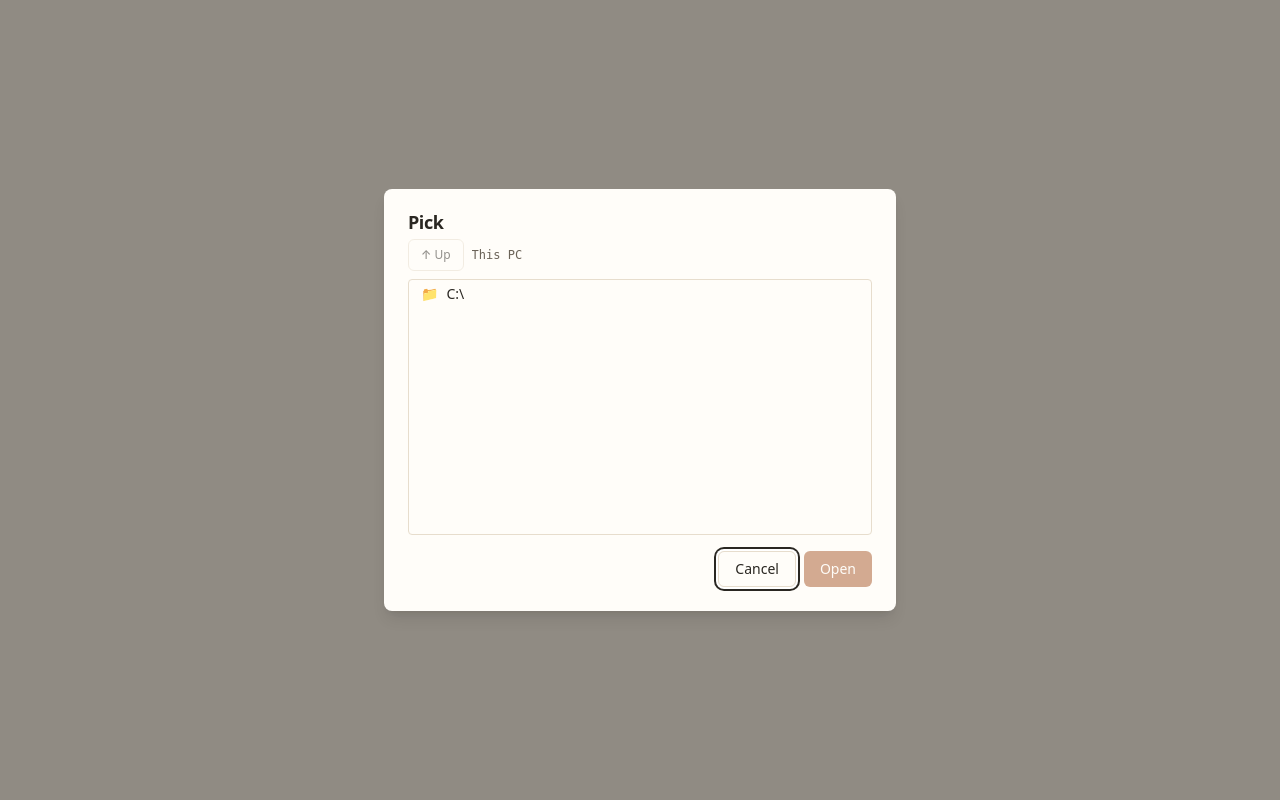
it: FsBrowser › Up from a drive root returns to the filesystem roots
Click the text "C:\\" at (455, 294), box [446,284,464,303]
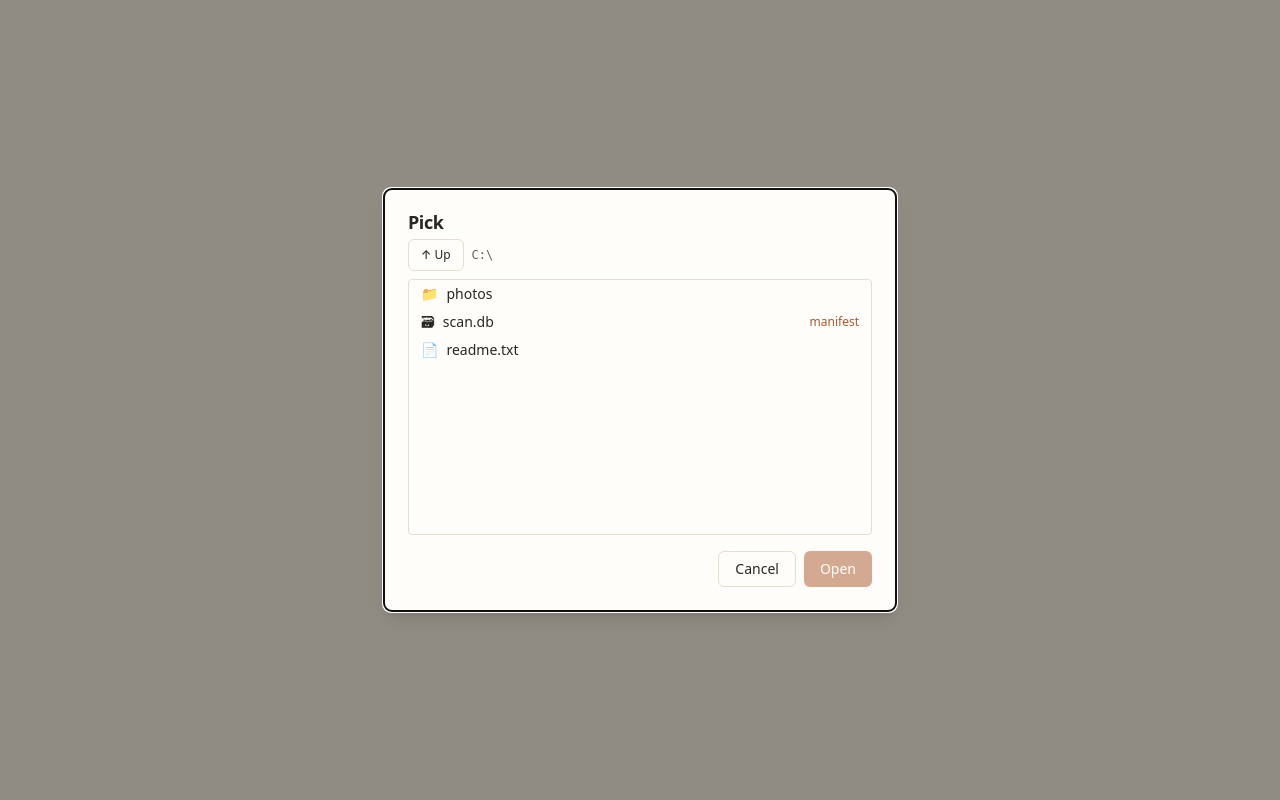
Result: the text "photos" is shown at [446,284,492,303]
Click the button with test id "fs-browser-up" at (436, 255), box [408,239,464,271]
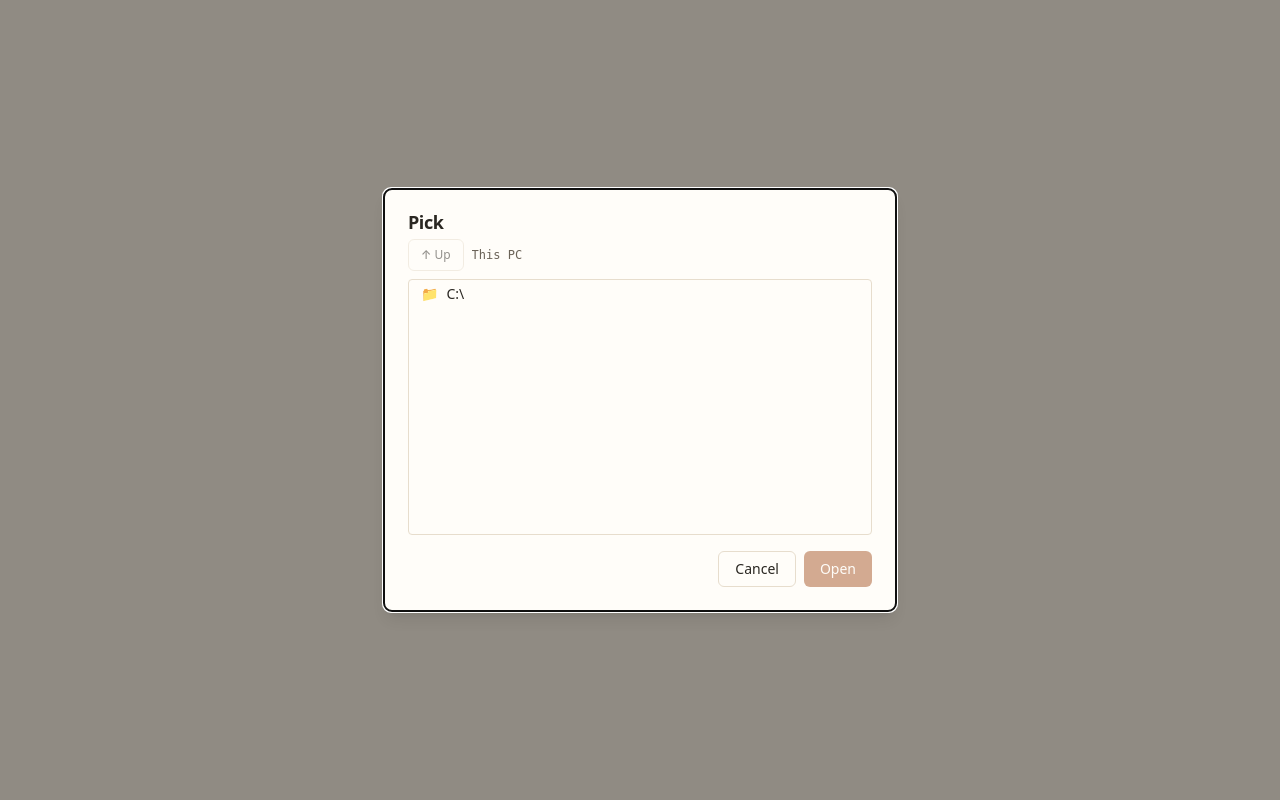
Result: the button "photos" is gone
Result: the button with test id "fs-browser-up" is disabled at [408,239,464,271]
